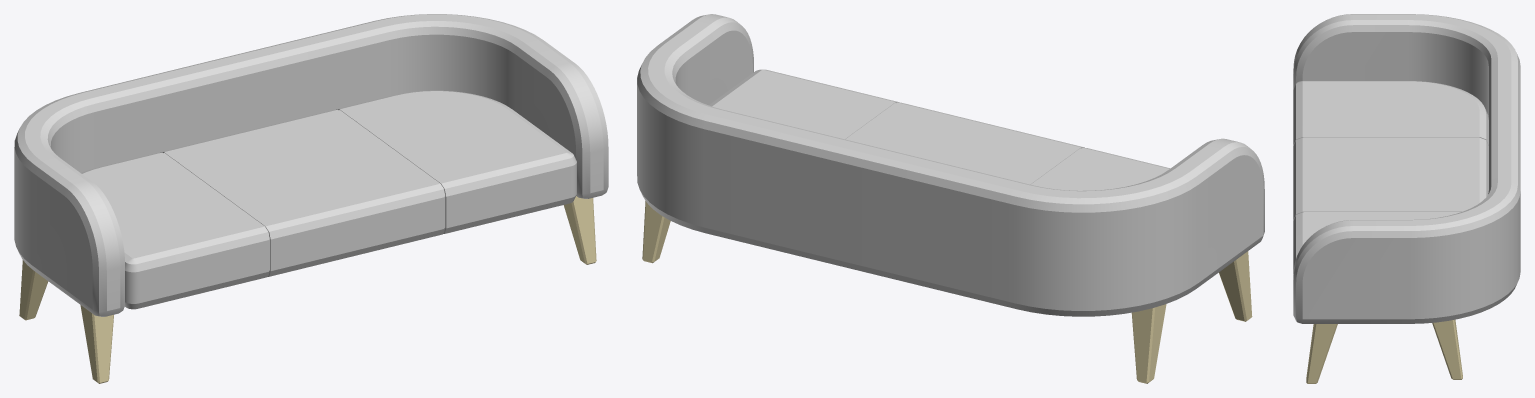
Rendered from BigSofa.fbx.
3 renders of one model, left to right at view 1: azimuth 30°, elevation 25°; view 2: azimuth 150°, elevation 25°; view 3: azimuth 270°, elevation 25°, orthographic. The views are drawn at different scales.
Parts seen in each view (by area): view 1: BigSofa; view 2: BigSofa; view 3: BigSofa.
Boxes of the visible parts, bbox=[...] form: BigSofa: bbox=[14, 14, 608, 383]; BigSofa: bbox=[637, 14, 1264, 383]; BigSofa: bbox=[1293, 14, 1520, 383].
Bounding box in the file's own units: 207 × 69.51 × 90.41.
